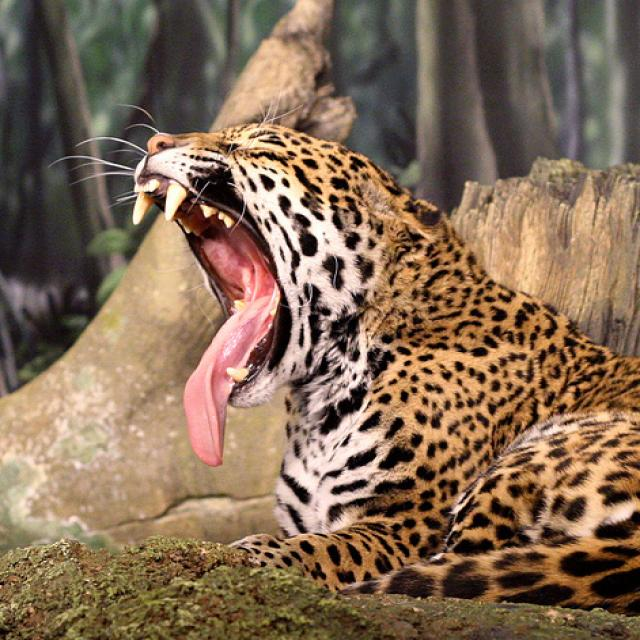Leopard: (54, 112, 636, 614)
